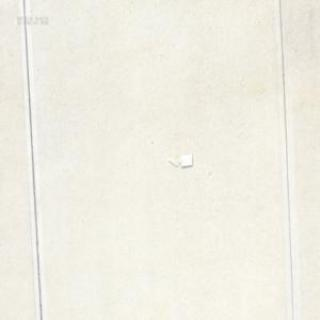LuggageTagtrack_idkeyframe: (165, 151, 192, 169)
